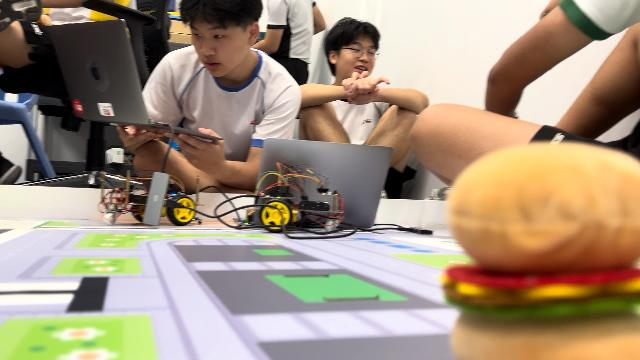burger: (440, 134, 640, 356)
